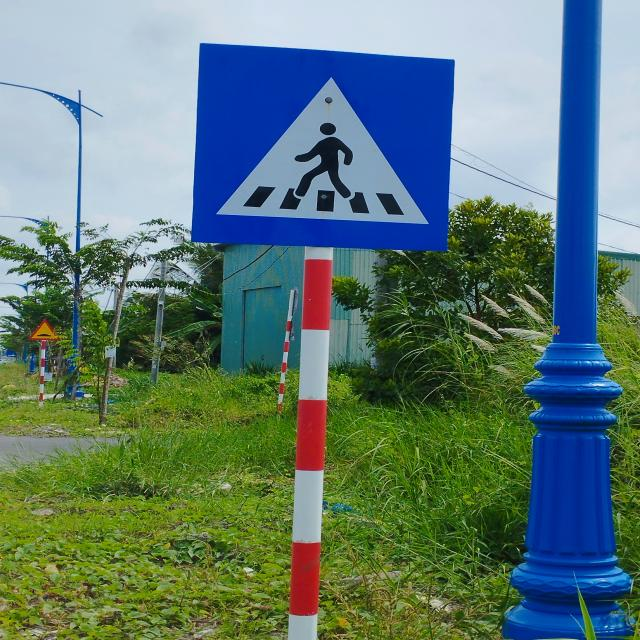Giao_Nhau_Duong_Uu_Tien: (193, 44, 453, 250)
